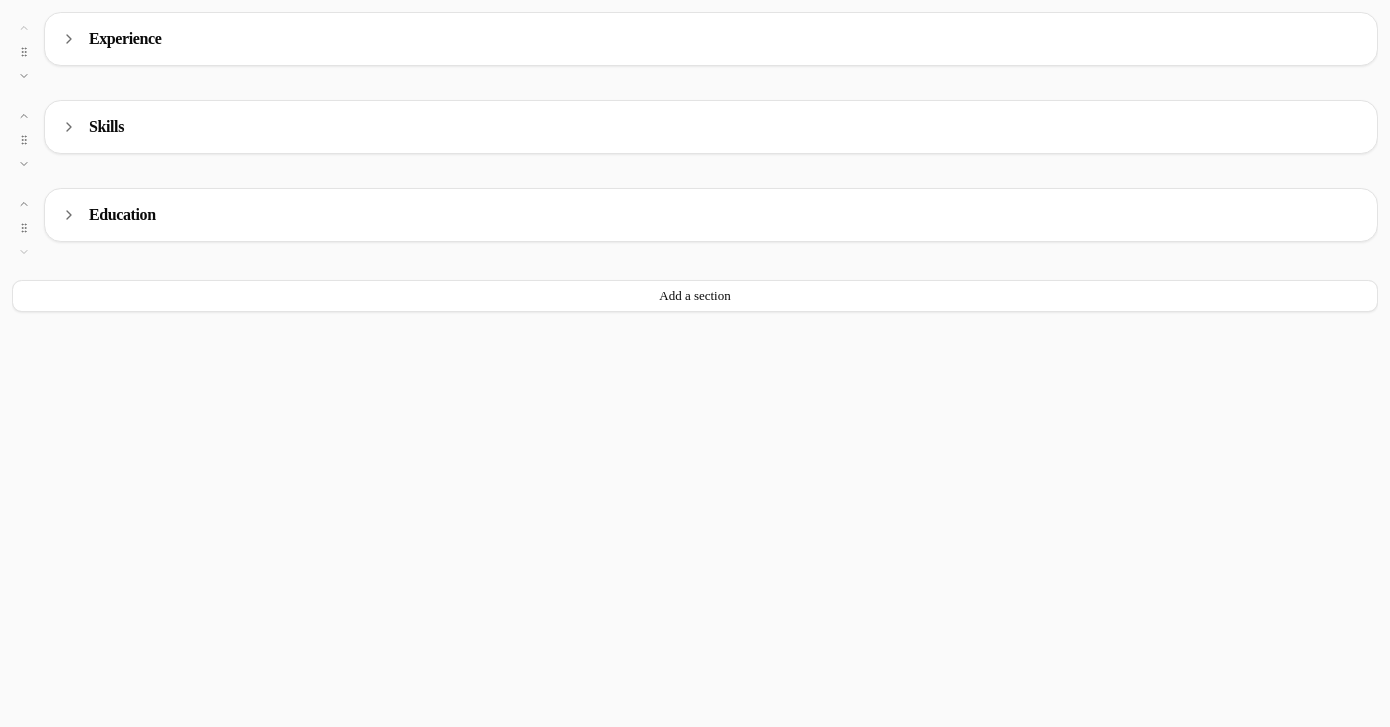
Test: editing an entry › opens with the entry’s current values already in the fields
Click the button "Experience" at (125, 38), box [45,13,1377,65]
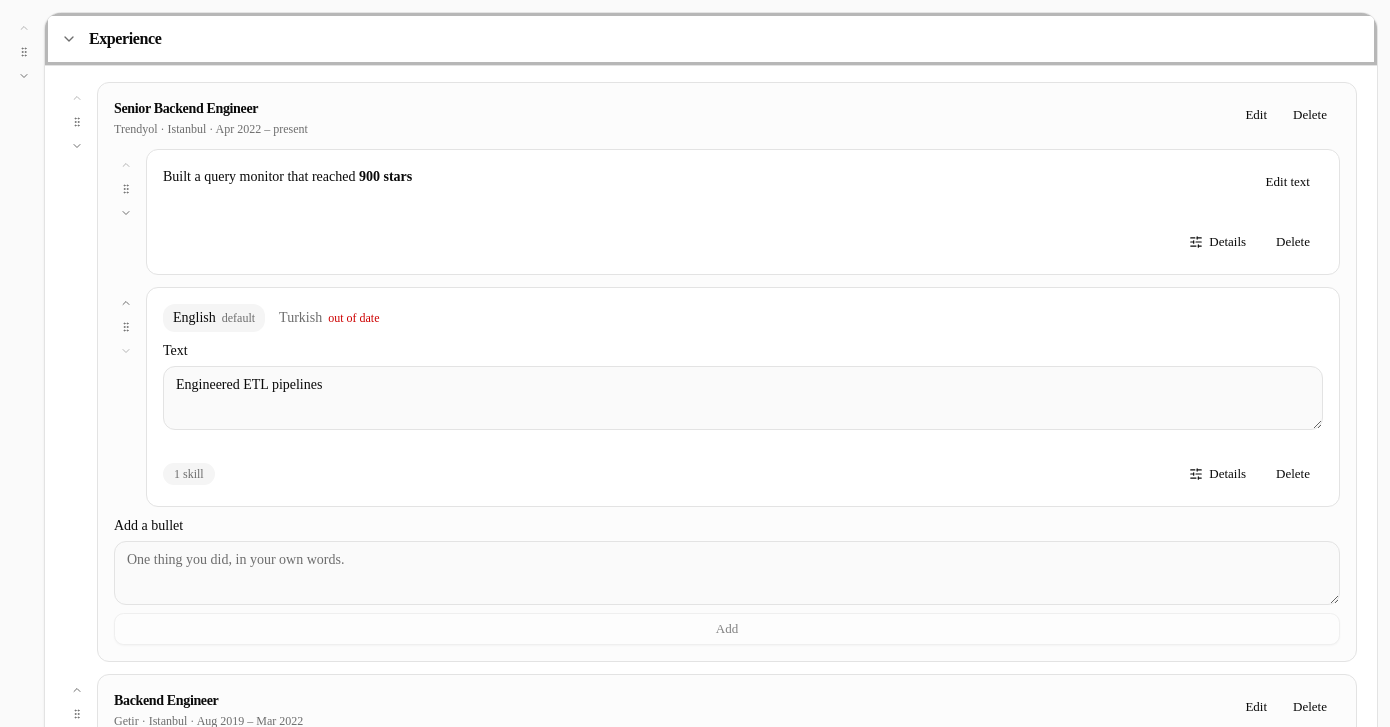
Click the button with aria-label "Edit the entry Senior Backend Engineer" at (1256, 115), box [1232,99,1280,131]
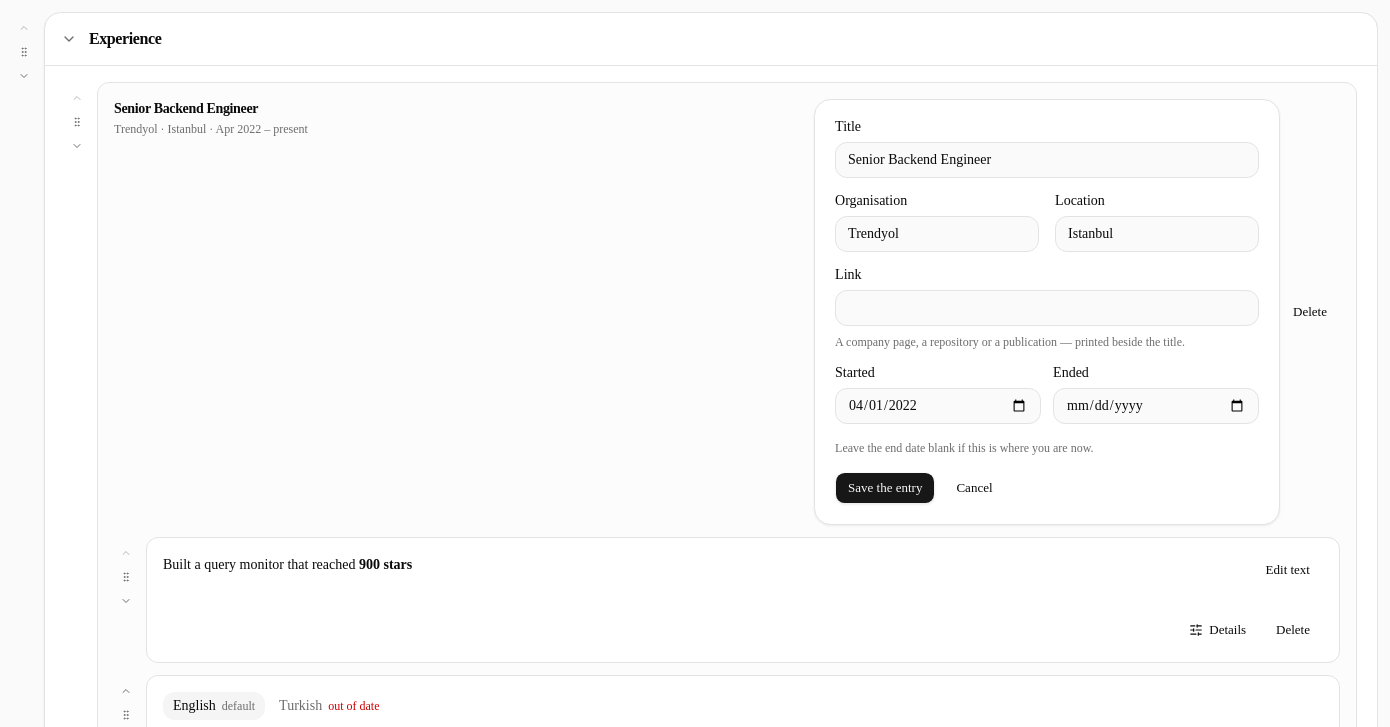
Expected: the field labelled "Title" holds "Senior Backend Engineer", [835,142,1259,178]
Expected: the field labelled "Organisation" holds "Trendyol", [835,216,1039,252]
Expected: the date field labelled "Started" holds "2022-04-01", [835,388,1041,424]
